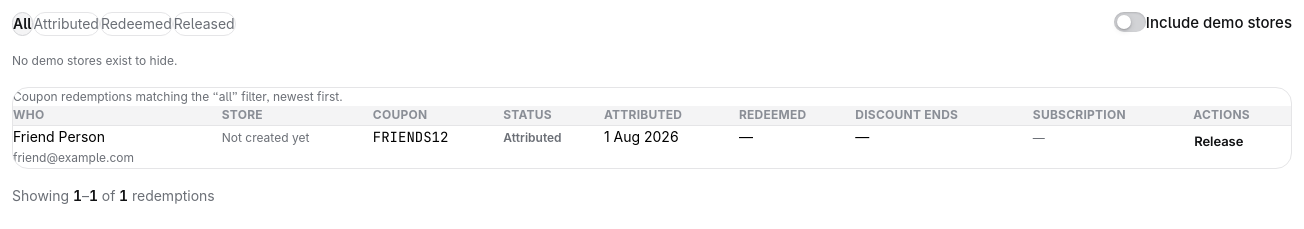
it: finding 2: the release action › shows a row-level error and leaves the row releasable again when the release fails
Step 1. Click the button "Release" → point(1219, 142), box [1193,126,1244,158]
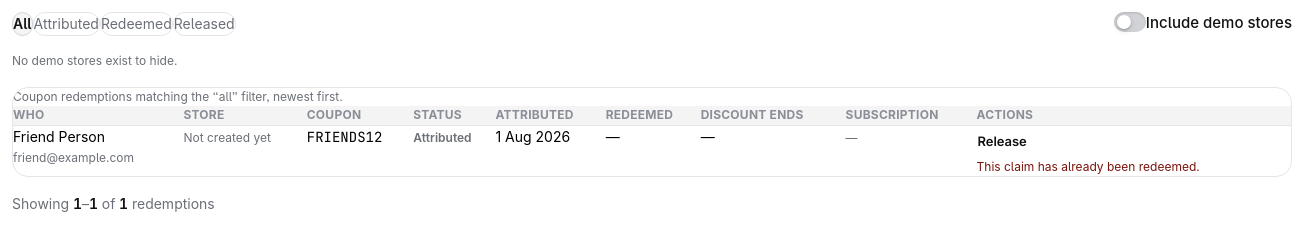
Expected: the button "Release" is shown, [976,126,1028,158]
Result: the message "This claim has already been redeemed." is shown at [976,159,1200,174]
